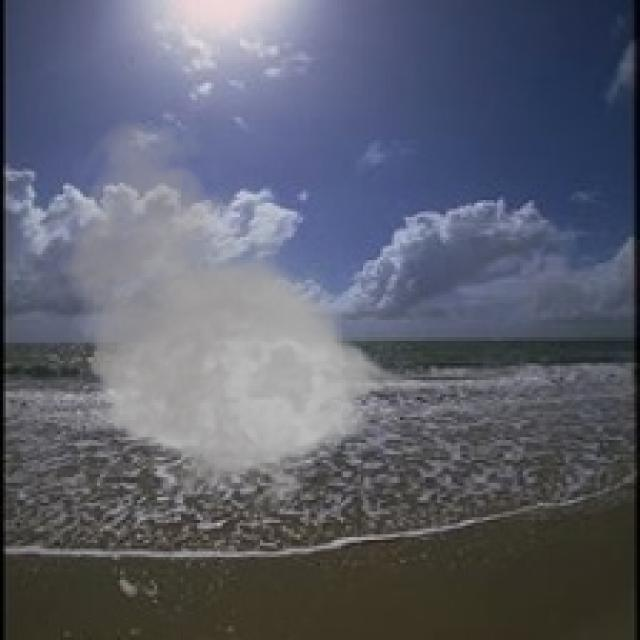smoke: (49, 114, 432, 523)
